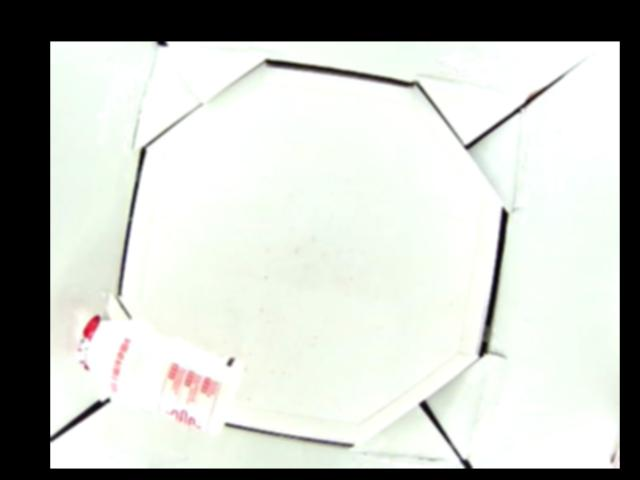Bottle: (76, 314, 243, 440)
